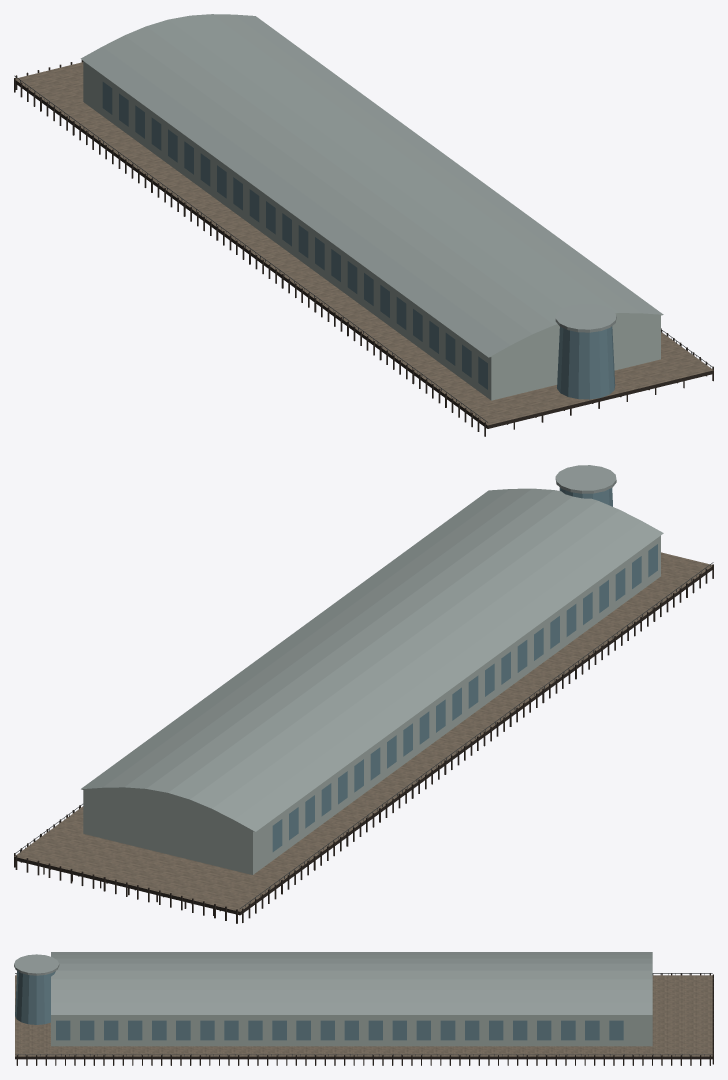
Rendered from bell_harbor.glb.
The picture shows the model from 3 angles, top to bottom: view 1: azimuth 30°, elevation 25°; view 2: azimuth 150°, elevation 25°; view 3: azimuth 270°, elevation 25°; orthographic projection. The views are drawn at different scales.
Parts seen in each view (by area): view 1: bell_harbor; view 2: bell_harbor; view 3: bell_harbor.
Boxes of the visible parts, x1=… form: bell_harbor: x1=14, y1=14, x2=713, y2=436; bell_harbor: x1=14, y1=465, x2=713, y2=923; bell_harbor: x1=14, y1=952, x2=713, y2=1065.
Size of the model in its own units: 81.2 by 27.81 by 291.
Materials: 2 (2 with a texture image).
